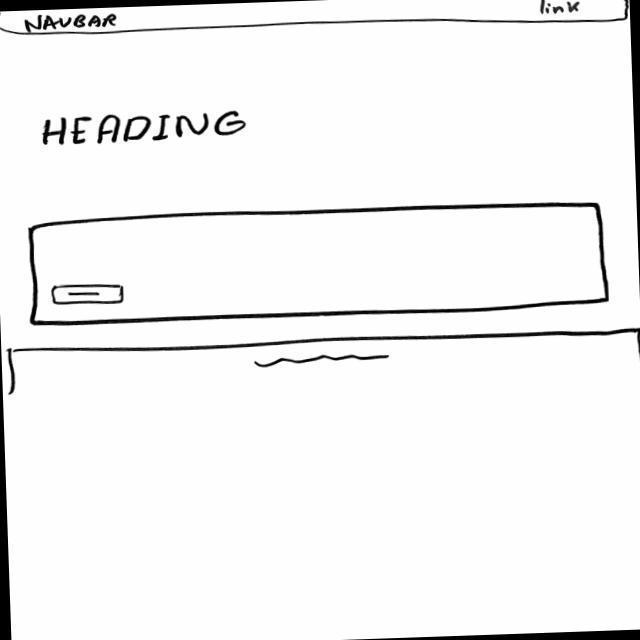container: (25, 199, 612, 329), (1, 1, 630, 43)
icon-button: (51, 283, 128, 306)
label: (39, 110, 249, 148), (20, 13, 119, 32), (534, 1, 582, 16)
text: (256, 351, 395, 371)
